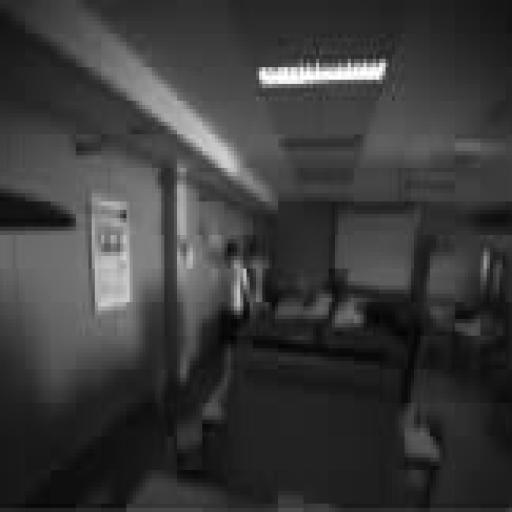human: (212, 234, 248, 396), (245, 235, 275, 304)
